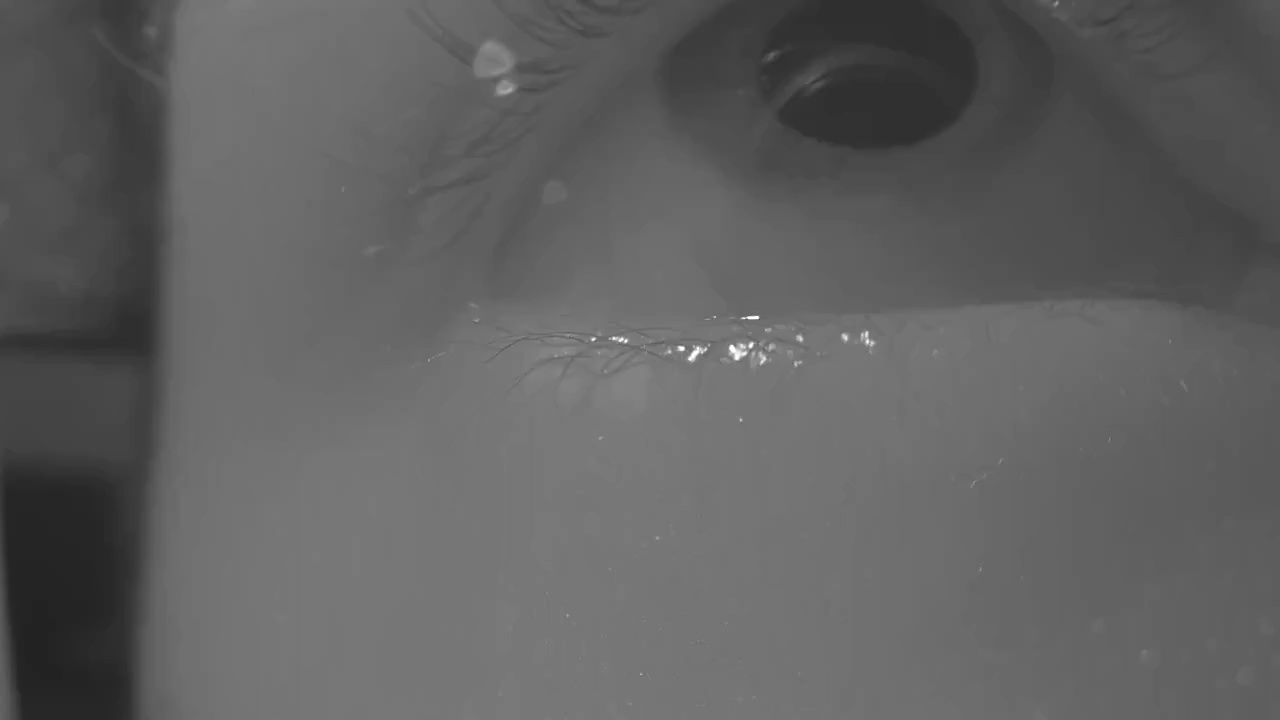pupil: (761, 1, 979, 146)
